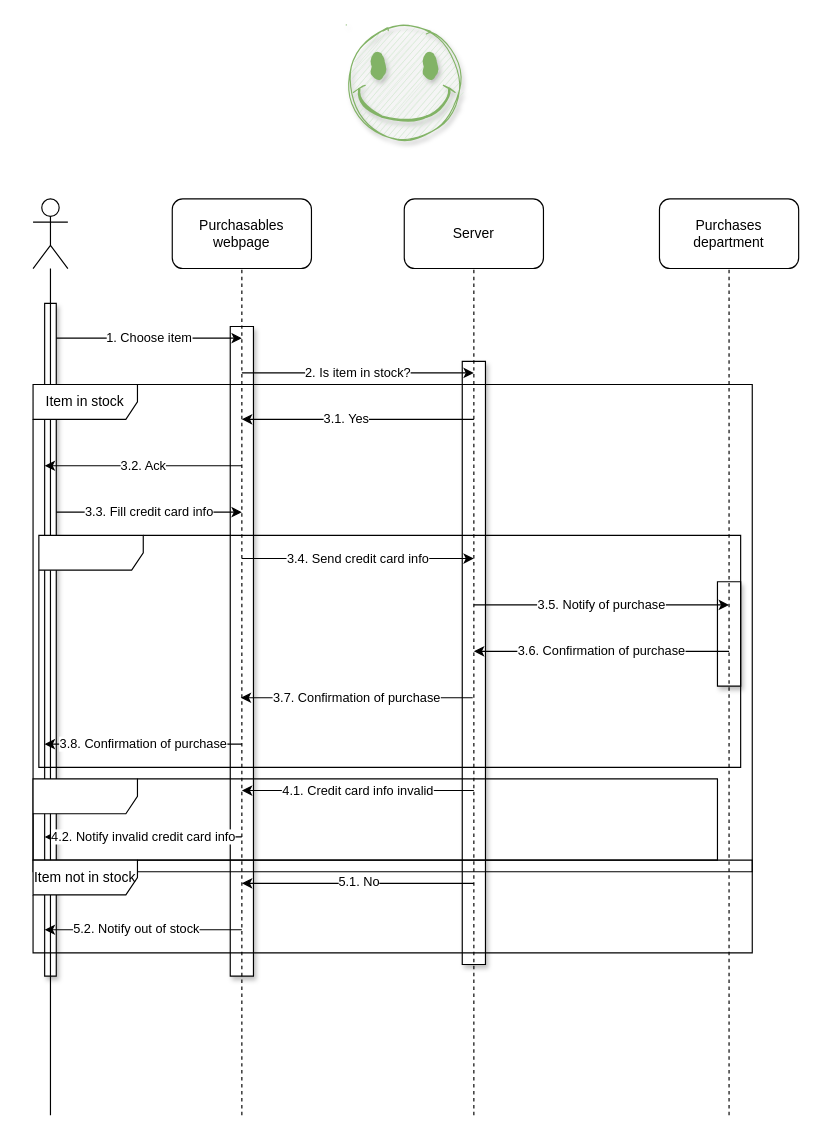
This 819x1137 diagram has some shape labels left out. The centre of each missing label's shape, as x and y in pixels:
"Credit card invalid" goes at [374,819].
"Credit card valid" goes at [389,650].
"Customer" goes at [50,233].
